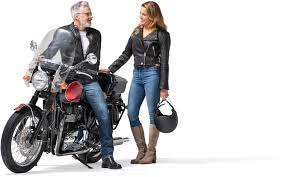motorcycle: (1, 39, 128, 175)
